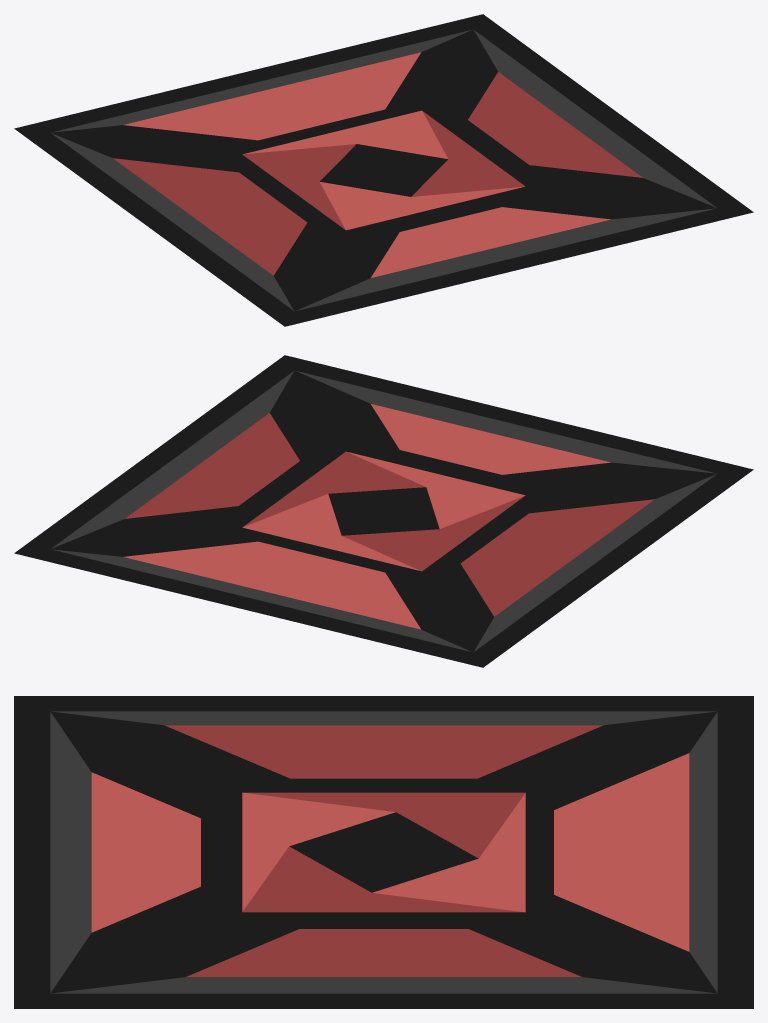
The model's file is zaplashitelna platformawe .fbx.
3 renders of one model, top to bottom at view 1: azimuth 30°, elevation 25°; view 2: azimuth 150°, elevation 25°; view 3: azimuth 270°, elevation 25°, orthographic. The views are drawn at different scales.
Visible parts, largest first — view 1: Plane; view 2: Plane; view 3: Plane.
Boxes of the visible parts, x1=… form: Plane: x1=14, y1=14, x2=753, y2=326; Plane: x1=14, y1=355, x2=753, y2=667; Plane: x1=14, y1=696, x2=753, y2=1008.
Bounding box in the file's own units: 2.22 × 0.00685 × 2.22.
